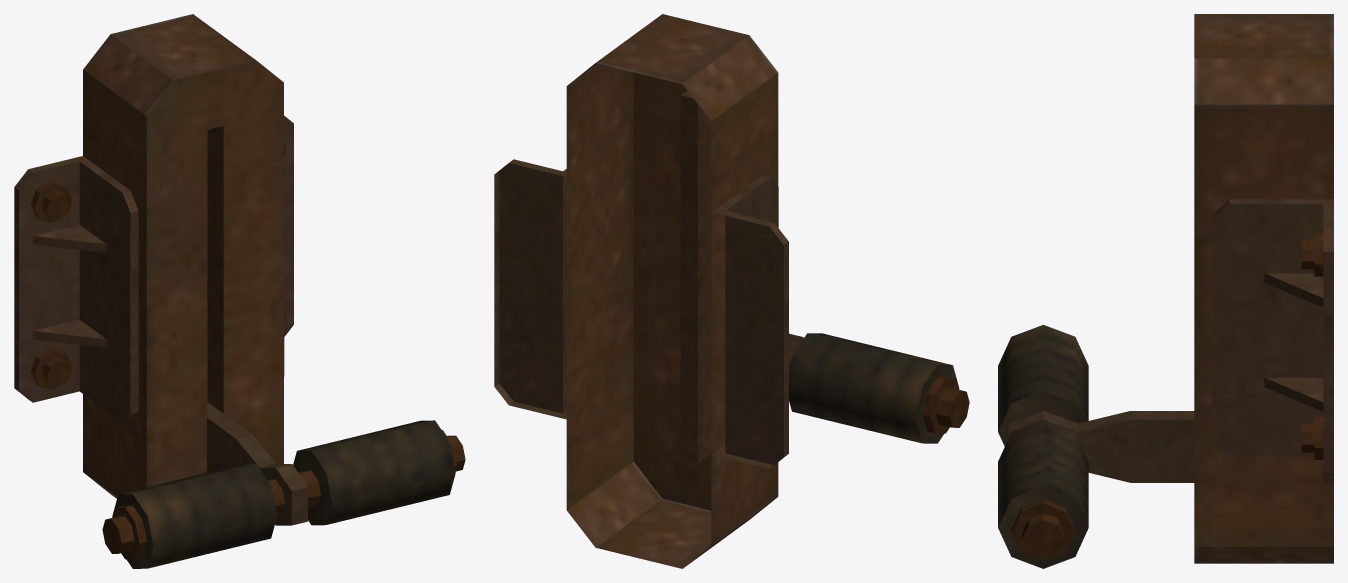
File: lever_etx_6.obj
3 renders of one model, left to right at view 1: azimuth 30°, elevation 25°; view 2: azimuth 150°, elevation 25°; view 3: azimuth 270°, elevation 25°, orthographic. The views are drawn at different scales.
Parts seen in each view (by area): view 1: lever_etx_6, lever_etx_6_child; view 2: lever_etx_6, lever_etx_6_child; view 3: lever_etx_6, lever_etx_6_child.
Boxes of the visible parts, x1,y1,x2,y2 form: lever_etx_6: (14, 14, 293, 498); lever_etx_6_child: (102, 402, 465, 568); lever_etx_6: (494, 14, 788, 568); lever_etx_6_child: (698, 333, 969, 462); lever_etx_6: (1194, 14, 1333, 563); lever_etx_6_child: (998, 325, 1194, 568).
Bounding box in the file's own units: 0.2254 × 0.288 × 0.1734.
